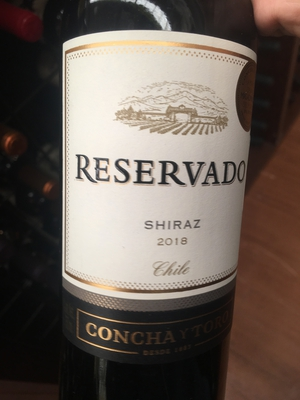reservado shiraz: (59, 16, 257, 399)
